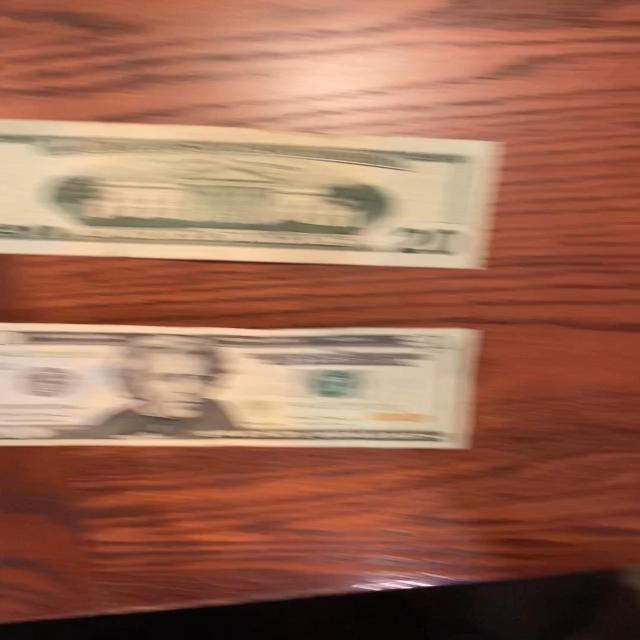20-Back: (0, 119, 503, 272)
20-Front: (1, 320, 478, 454)
